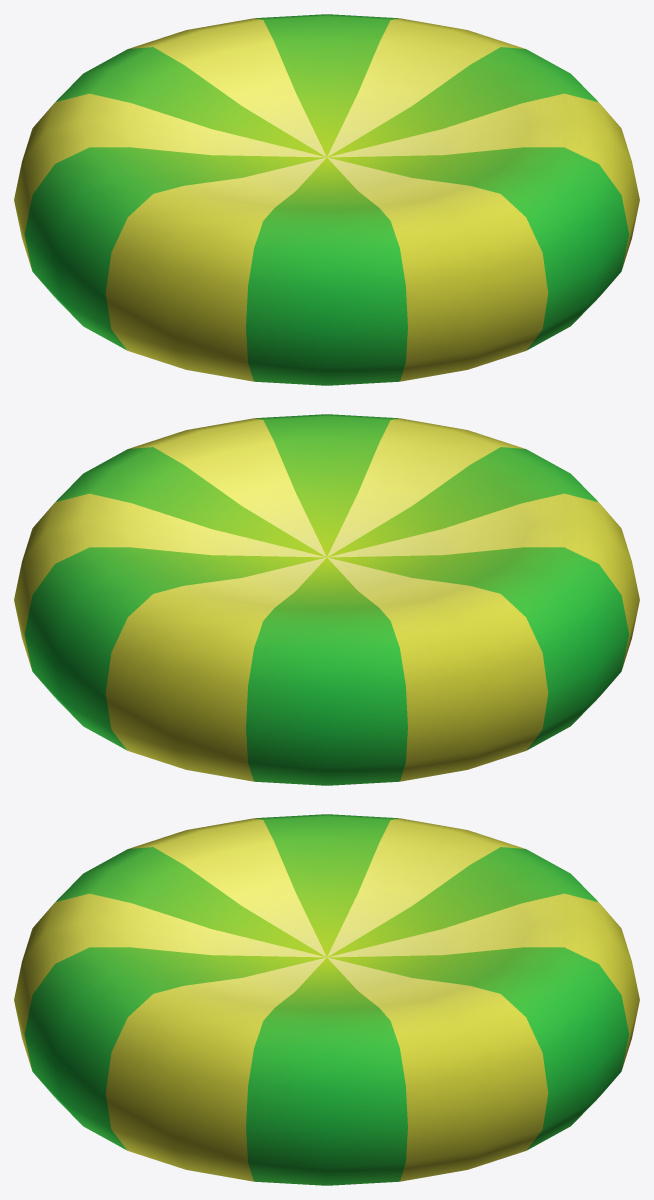
File: candy_003.glb
3 views of the same model, one above another, from view 1: azimuth 30°, elevation 25°; view 2: azimuth 150°, elevation 25°; view 3: azimuth 270°, elevation 25° (orthographic).
Visible parts, largest first — view 1: candy_003; view 2: candy_003; view 3: candy_003.
Part boxes in pixels (x1,y1,x2,y2): candy_003: (14, 14, 639, 385); candy_003: (14, 414, 639, 785); candy_003: (14, 814, 639, 1185).
Size of the model in its own units: 3.37 by 0.9452 by 3.37.
Materials: 1 (1 with a texture image).
